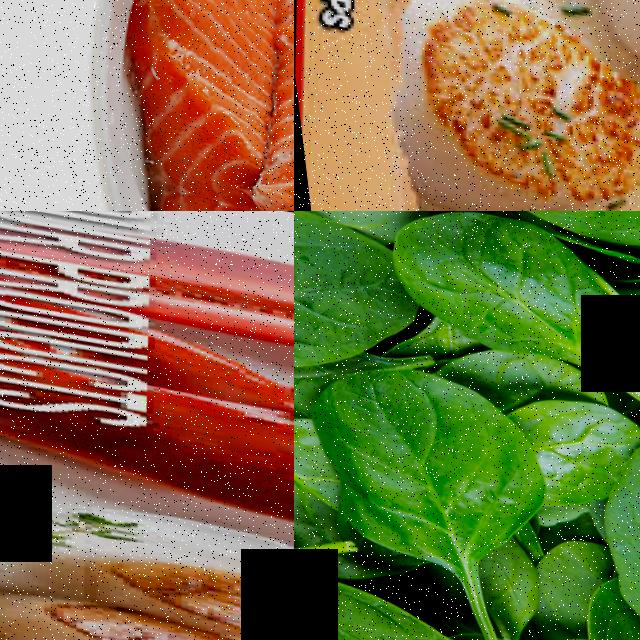salmon: (94, 0, 294, 211), (218, 0, 294, 211)
sea scallops: (372, 0, 588, 211), (62, 542, 294, 640), (0, 592, 294, 640)
spinach: (302, 353, 556, 575), (371, 211, 636, 381), (294, 211, 398, 379), (577, 430, 640, 609), (294, 582, 475, 640), (466, 211, 640, 262)
